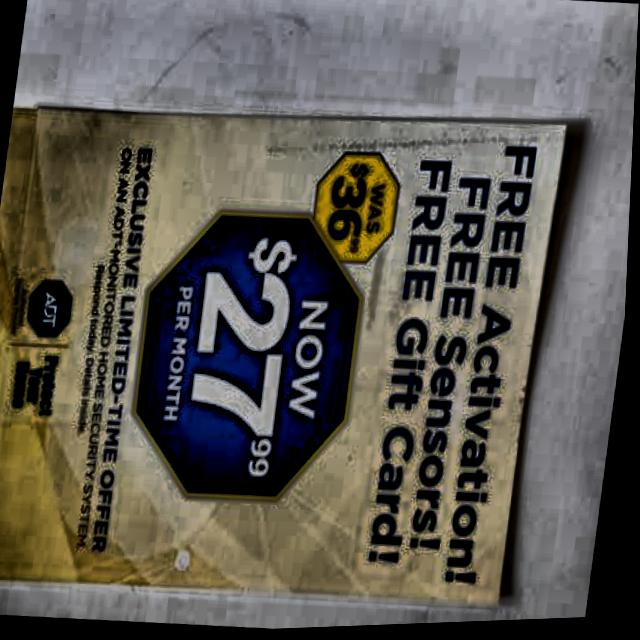Paper: (0, 44, 582, 640)
